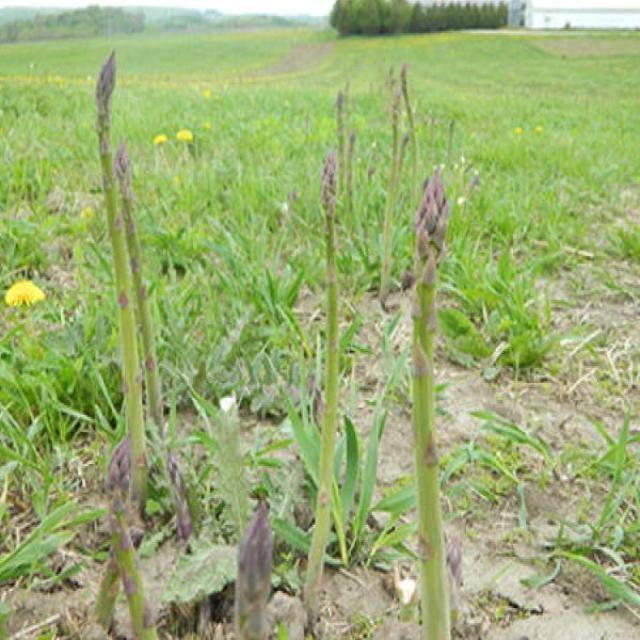aspargus: (95, 53, 146, 470), (411, 166, 452, 640), (304, 149, 338, 624)
